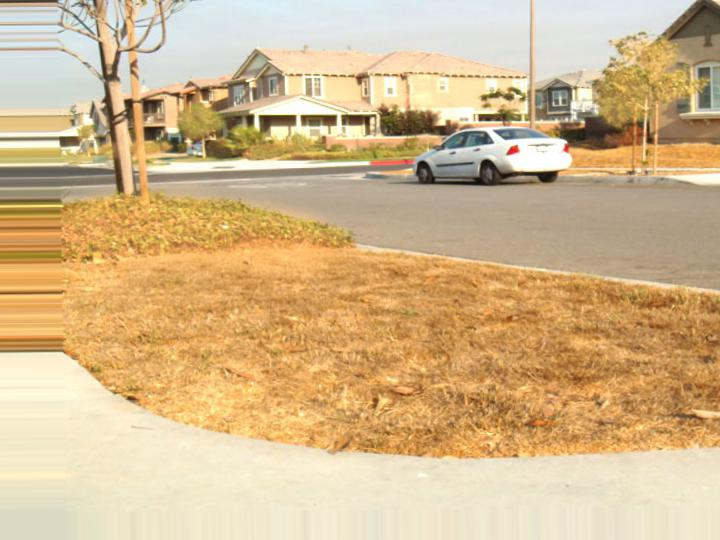patch: (107, 222, 313, 361), (344, 257, 515, 395), (561, 313, 672, 407), (403, 406, 525, 452), (214, 353, 291, 399), (302, 407, 367, 430)
